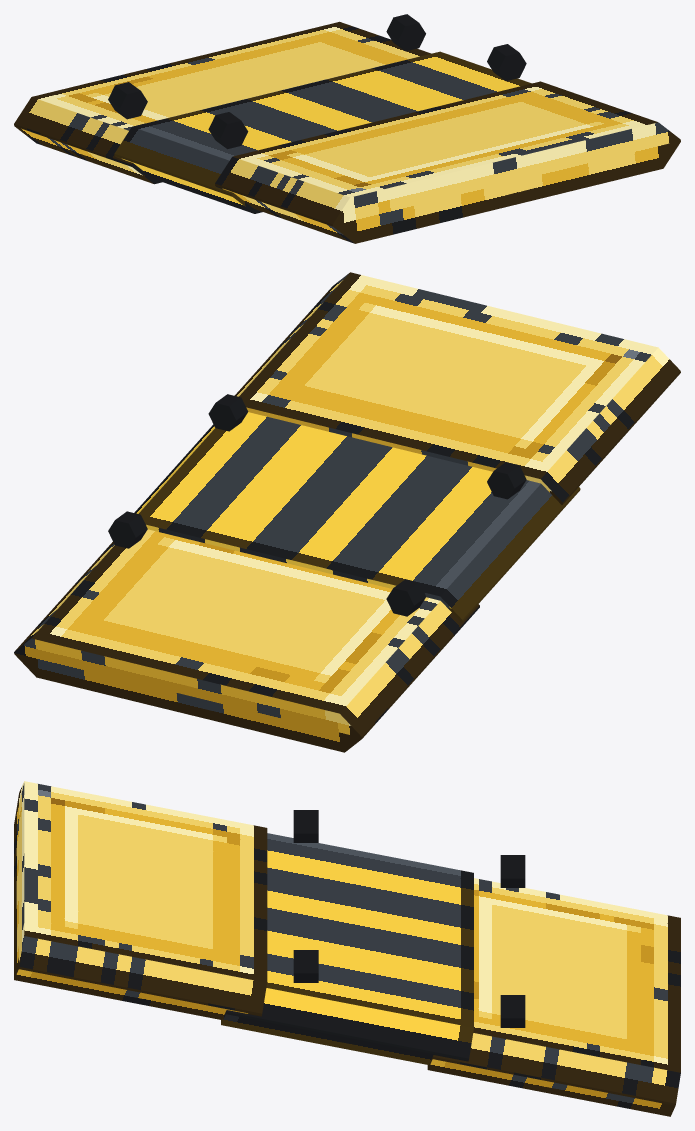
The model's file is cy_plating.glb.
The picture shows the model from 3 angles, top to bottom: view 1: azimuth 30°, elevation 25°; view 2: azimuth 150°, elevation 25°; view 3: azimuth 270°, elevation 25°; orthographic projection. The views are drawn at different scales.
Parts seen in each view (by area): view 1: plate2, plate0, plate1, bolt2, bolt1, bolt3, bolt0; view 2: plate0, plate2, plate1, bolt2, bolt0, bolt3, bolt1; view 3: plate2, plate0, plate1, bolt0, bolt1, bolt2, bolt3.
Part boxes in pixels (<box>): plate2: <box>215,81,680,243</box>; plate0: <box>14,21,430,184</box>; plate1: <box>114,51,531,213</box>; bolt2: <box>487,44,526,81</box>; bolt1: <box>108,82,147,119</box>; bolt3: <box>208,112,248,149</box>; bolt0: <box>386,14,425,51</box>; plate0: <box>14,529,479,752</box>; plate2: <box>234,272,680,504</box>; plate1: <box>134,412,580,622</box>; bolt2: <box>208,394,248,431</box>; bolt0: <box>108,511,147,548</box>; bolt3: <box>487,462,526,499</box>; bolt1: <box>386,579,425,616</box>; plate2: <box>14,781,267,1019</box>; plate0: <box>427,878,680,1116</box>; plate1: <box>221,833,473,1064</box>; bolt0: <box>500,995,525,1027</box>; bolt1: <box>500,855,525,887</box>; bolt2: <box>293,950,318,982</box>; bolt3: <box>293,810,318,842</box>.
Size of the model in its own units: 10 by 4.82 by 16.12.
Materials: 1 (1 with a texture image).
